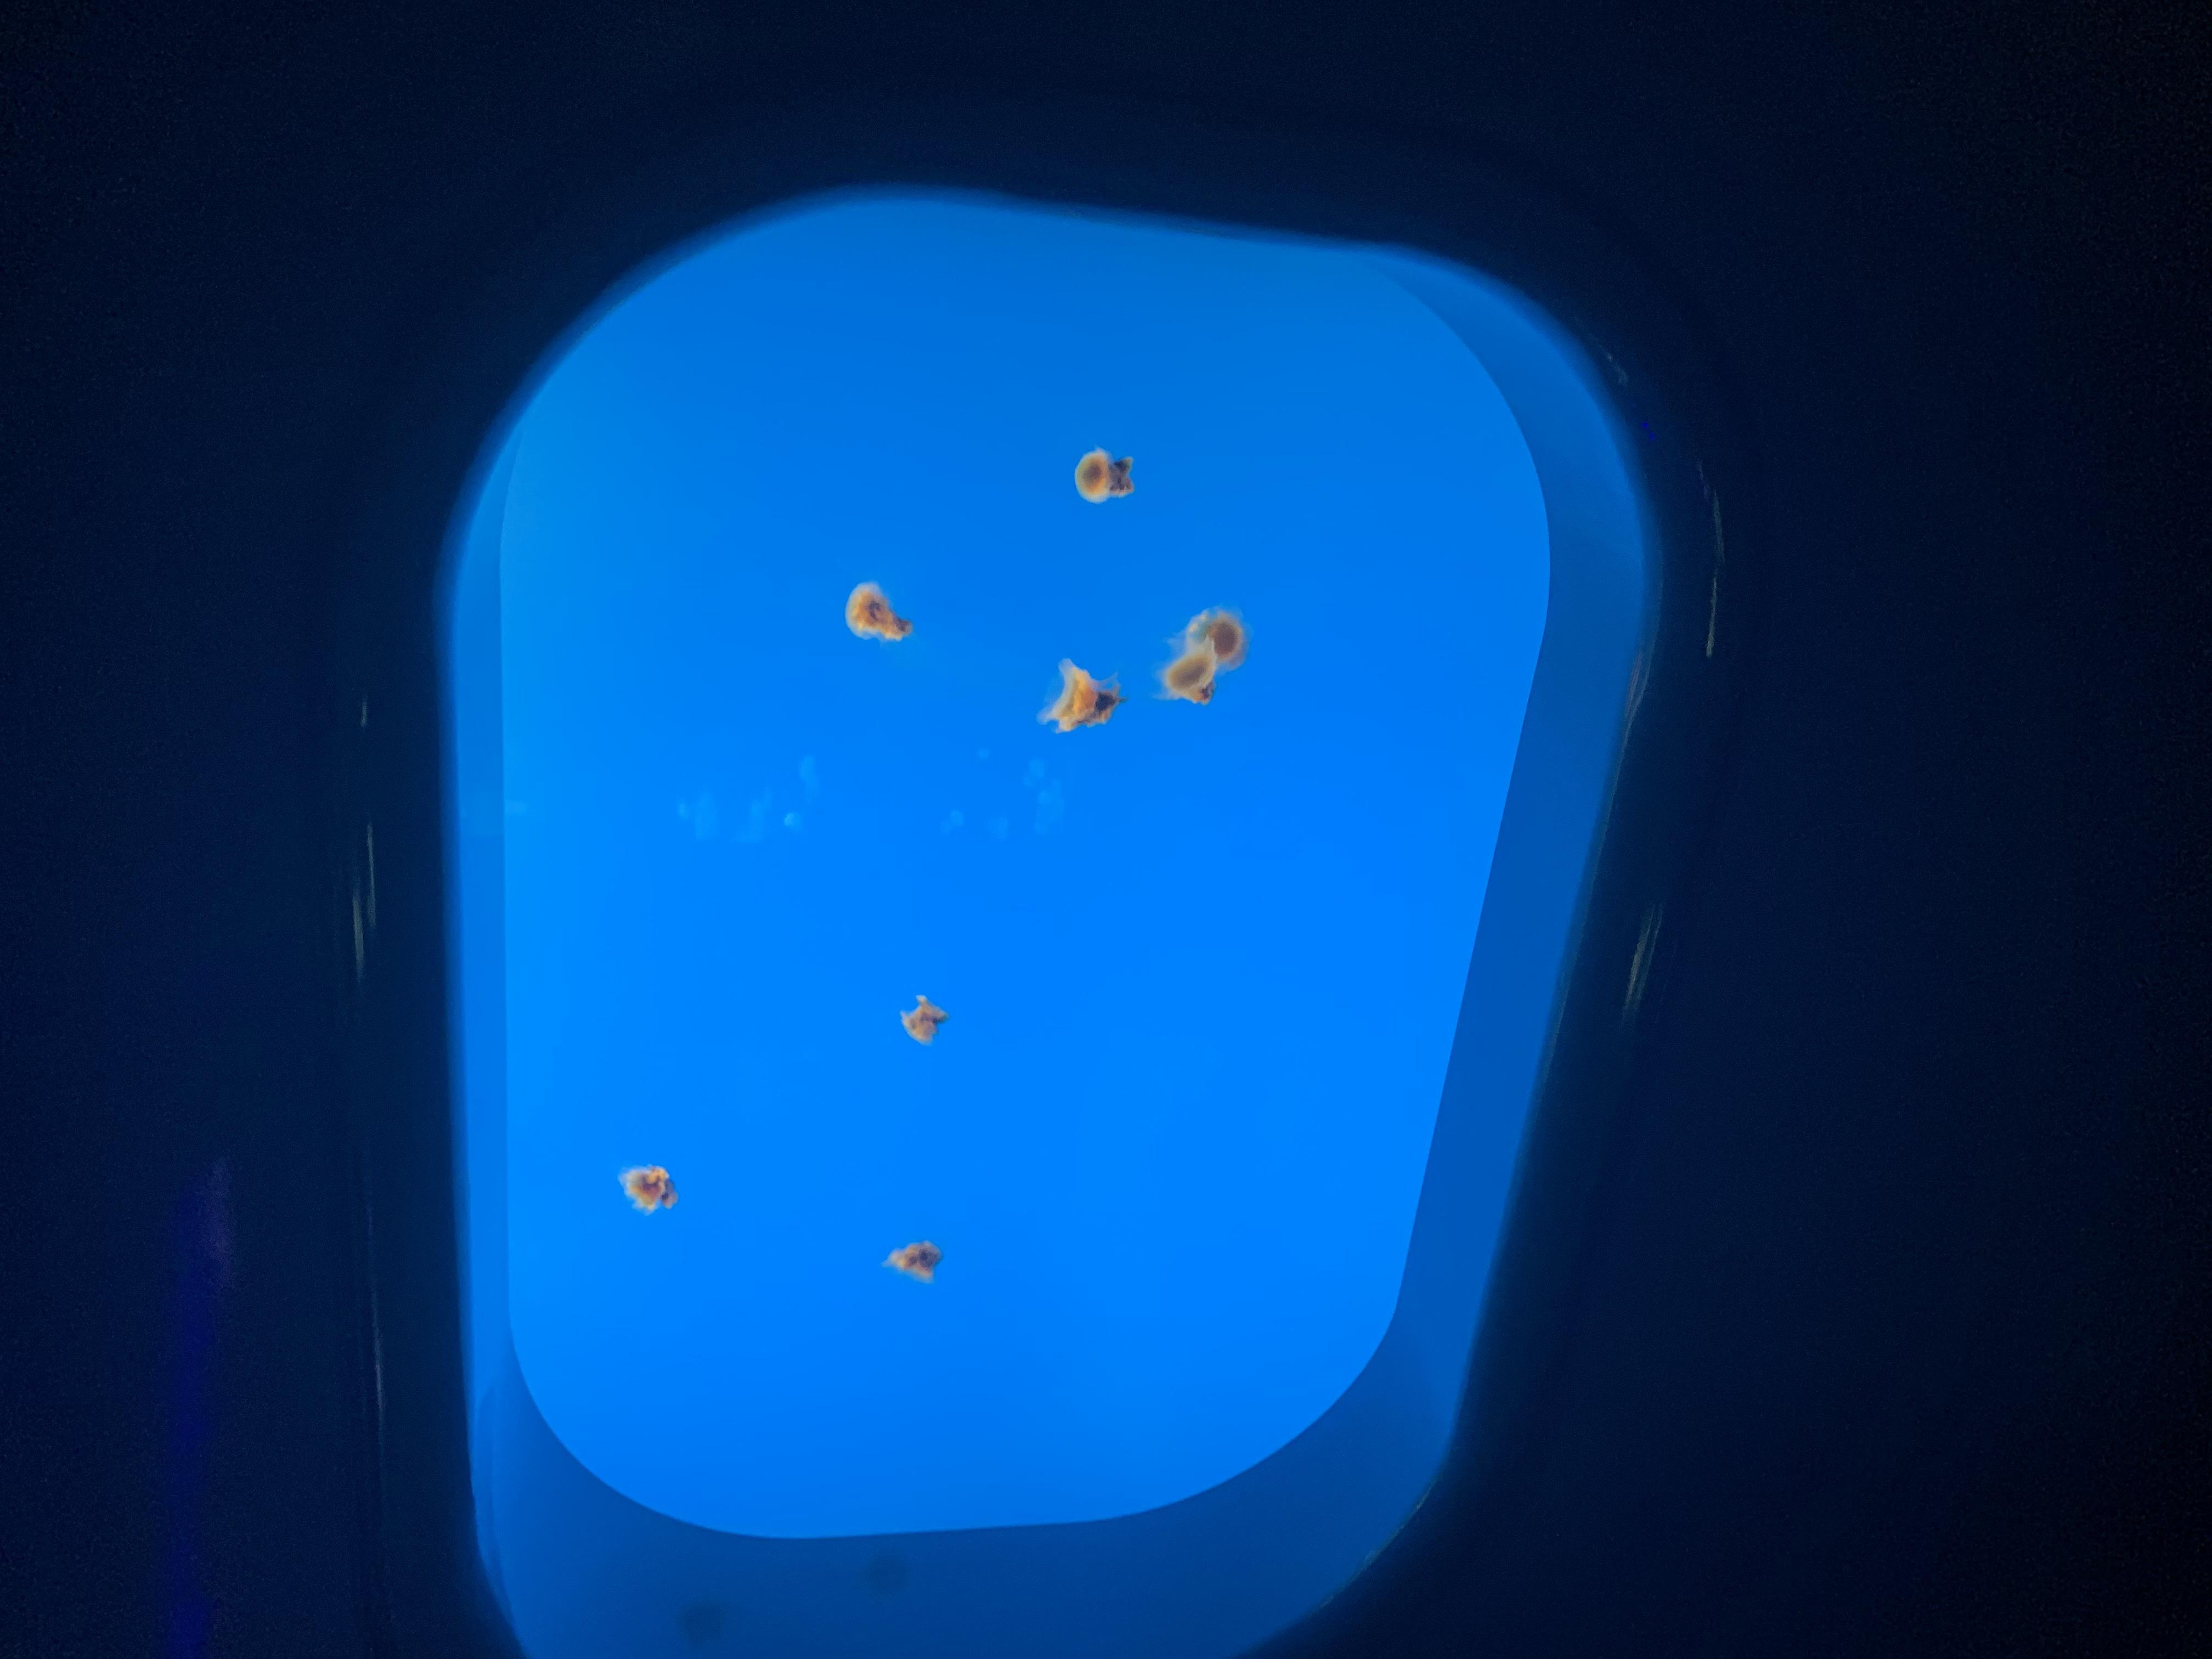jellyfish: (1036, 653, 1129, 734), (1181, 603, 1252, 674), (1153, 633, 1219, 706), (843, 579, 916, 643), (1068, 446, 1137, 505), (620, 1161, 678, 1215), (899, 990, 951, 1046), (885, 1234, 942, 1283)
